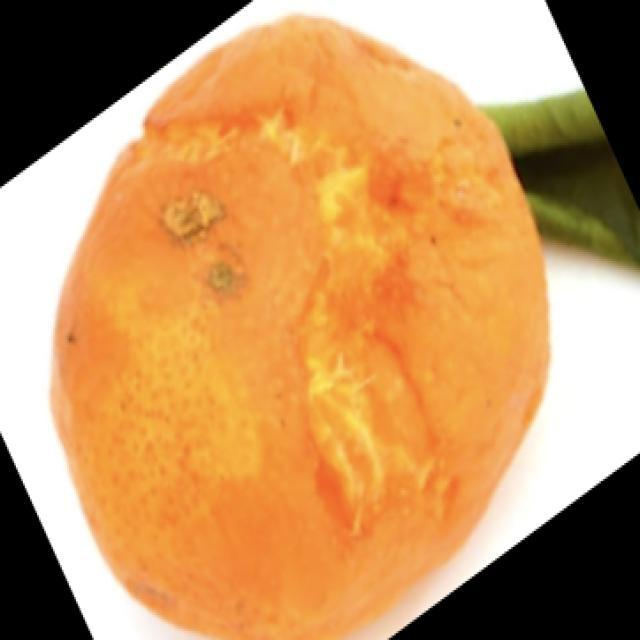sedikit-busuk: (51, 16, 547, 639), (136, 106, 455, 536)
